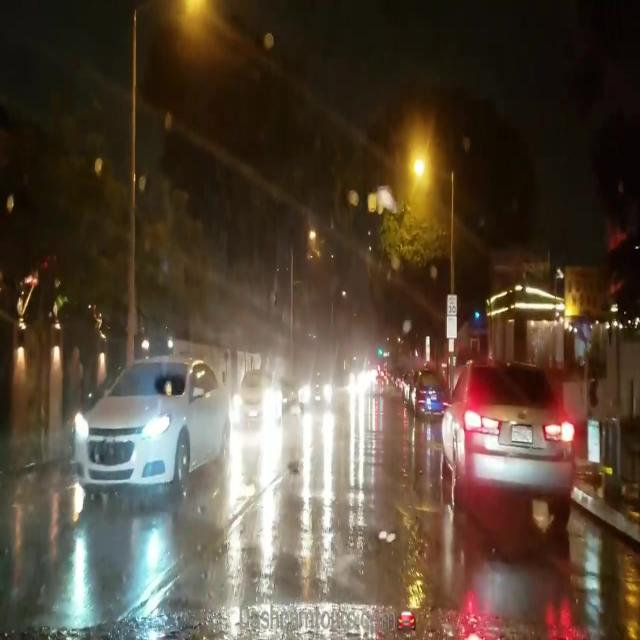Car: (65, 360, 227, 490), (437, 360, 570, 518), (231, 364, 279, 430), (296, 366, 331, 412), (411, 370, 440, 422)
